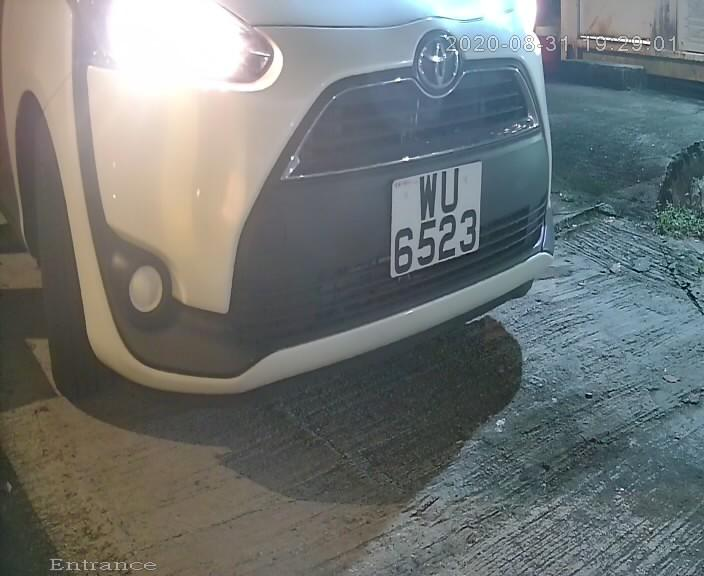License Plate: (381, 150, 488, 291)
